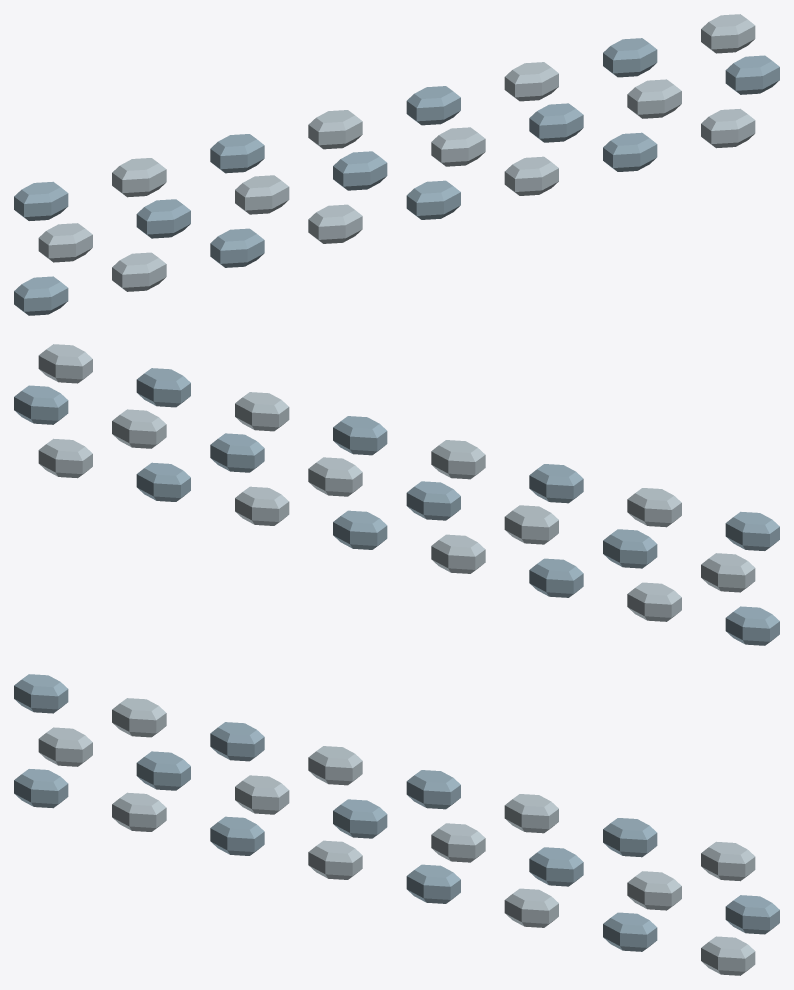
Rendered from owl_wall.glb.
The picture shows the model from 3 angles, top to bottom: view 1: azimuth 30°, elevation 25°; view 2: azimuth 150°, elevation 25°; view 3: azimuth 330°, elevation 25°; orthographic projection.
Visible parts, largest first — view 1: owl_wall; view 2: owl_wall; view 3: owl_wall.
Boxes of the visible parts, x1,y1,x2,y2 form: owl_wall: [14, 14, 779, 315]; owl_wall: [14, 344, 779, 645]; owl_wall: [14, 674, 779, 975].
Bounding box in the file's own units: 6.02 × 0.92 × 0.28.
